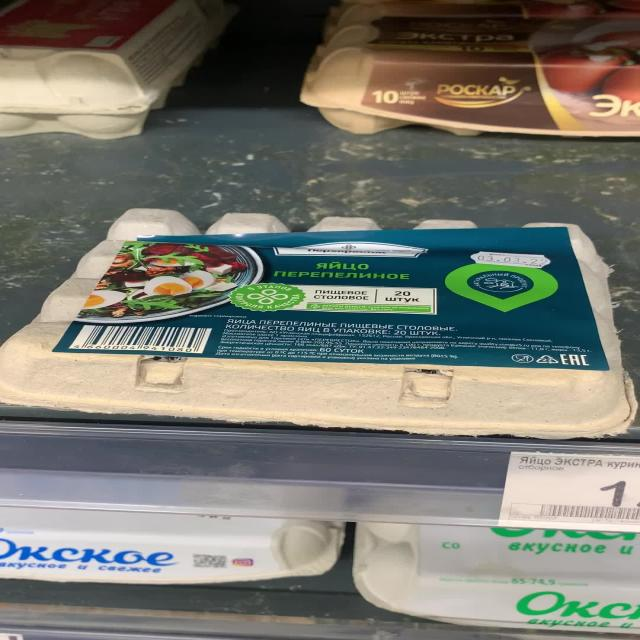egg box: (2, 209, 628, 438)
